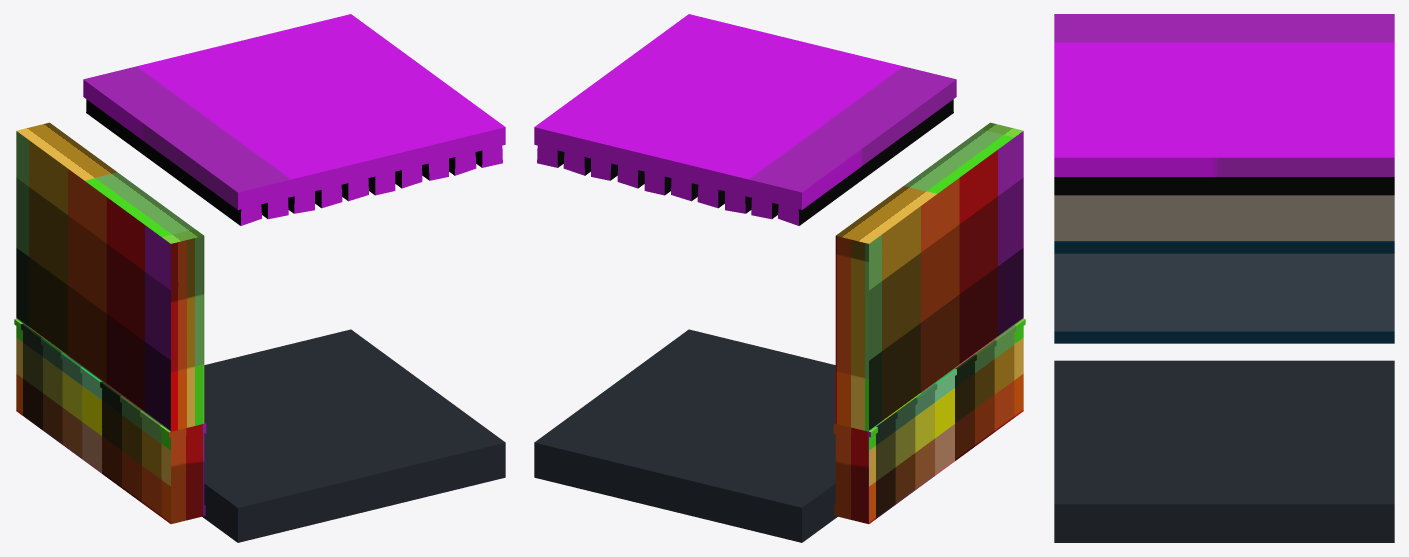
Rendered from Cosas.fbx.
3 renders of one model, left to right at view 1: azimuth 30°, elevation 25°; view 2: azimuth 150°, elevation 25°; view 3: azimuth 270°, elevation 25°, orthographic. The views are drawn at different scales.
Visible parts, largest first — view 1: Wall, Techo, Piso; view 2: Wall, Techo, Piso; view 3: Piso, Techo, Wall.
Part boxes in pixels (box(x1,y1,x2,y2)): Wall: box(14, 122, 206, 523); Techo: box(83, 14, 505, 225); Piso: box(202, 329, 505, 542); Wall: box(833, 122, 1025, 523); Techo: box(534, 14, 956, 225); Piso: box(534, 329, 837, 542); Piso: box(1054, 360, 1394, 542); Techo: box(1054, 14, 1394, 195); Wall: box(1054, 195, 1394, 343).
Bounding box in the file's own units: 5.03 × 5 × 4.
Materials: 1 (1 with a texture image).
